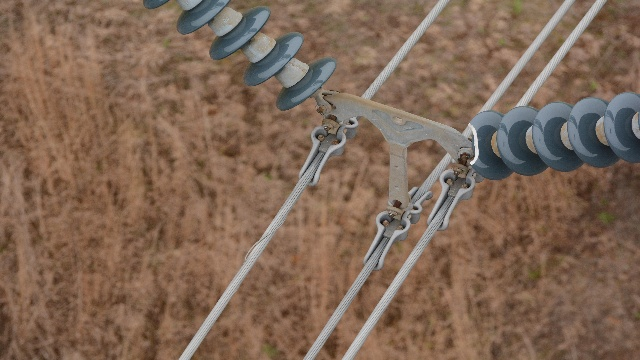broken_local: (467, 119, 482, 166)
insulator_unspecified: (143, 0, 338, 111), (465, 91, 639, 180)
